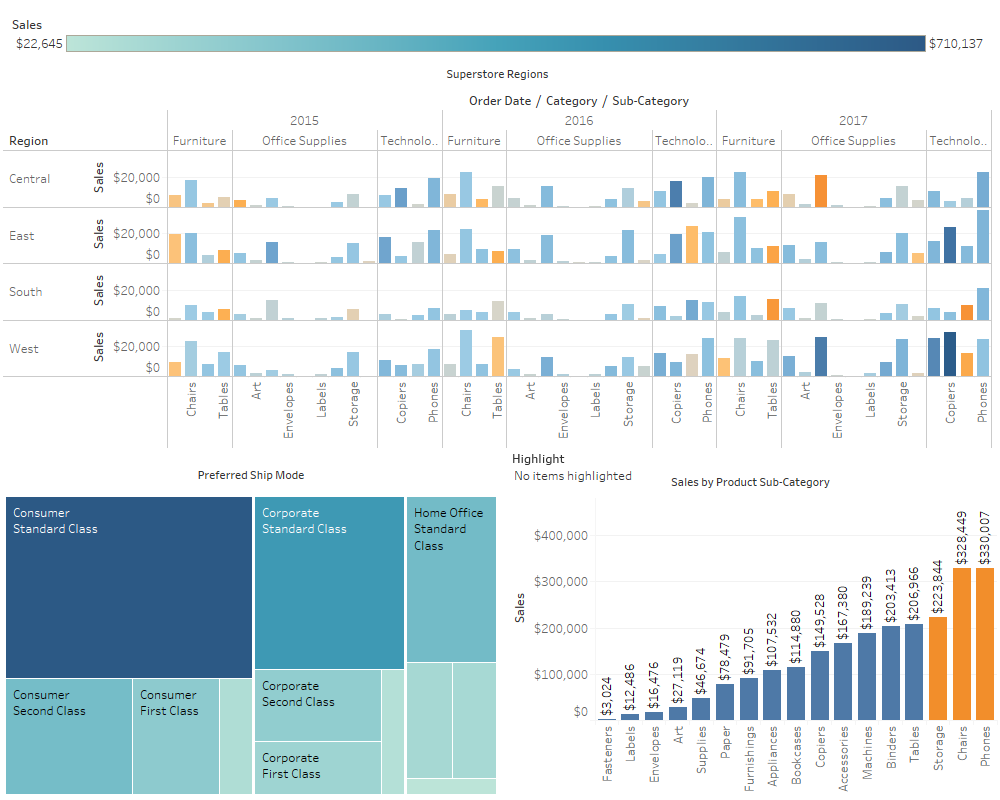

Layout of this report page (visuals, bound fields, positions):
{"tool":"tableau","page":{"name":"Superstore Analysis","canvas":[1000,800],"ordinal":0},"visuals":[{"type":"worksheet","box":[0,0,1000,800]},{"type":"worksheet","param":"horz","box":[8,8,984,784]},{"type":"worksheet","param":"vert","box":[8,8,984,784]},{"type":"worksheet","title":"Ship Mode","mark":"Automatic","param":"[Sample - Superstore].[sum:Sales:qk]","box":[8,8,984,65]},{"type":"worksheet","title":"Sales by Product/Region","mark":"Automatic","rows":["Region","Sales"],"cols":["Order Date","Category","Sub-Category"],"box":[3,60,989,388]},{"type":"worksheet","title":"Ship Mode","mark":"Automatic","param":"[Sample - Superstore].[none:State:nk]","box":[512,449,160,241]},{"type":"worksheet","title":"Ship Mode","mark":"Automatic","box":[0,461,502,339]},{"type":"worksheet","title":"Sales Sub-Categories","mark":"Automatic","rows":["Sales"],"cols":["Sub-Category"],"box":[504,468,493,332]}]}

Visuals, with their boxes in screenshot pixels (x1, y1, x2, y2), scaled from the page's 1000x800 canvas onto the 1000x800 screenshot:
worksheet: detection(0, 0, 999, 799)
worksheet: detection(8, 8, 992, 792)
worksheet: detection(8, 8, 992, 792)
"Ship Mode" worksheet: detection(8, 8, 992, 73)
"Sales by Product/Region" worksheet: detection(3, 60, 992, 448)
"Ship Mode" worksheet: detection(512, 449, 672, 690)
"Ship Mode" worksheet: detection(0, 461, 502, 799)
"Sales Sub-Categories" worksheet: detection(504, 468, 997, 799)
